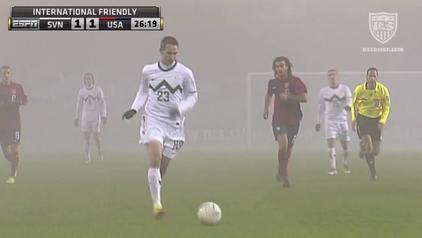stay: (129, 50, 198, 197), (353, 59, 389, 183)
walk: (267, 52, 310, 191), (316, 64, 353, 182), (74, 75, 110, 167)
